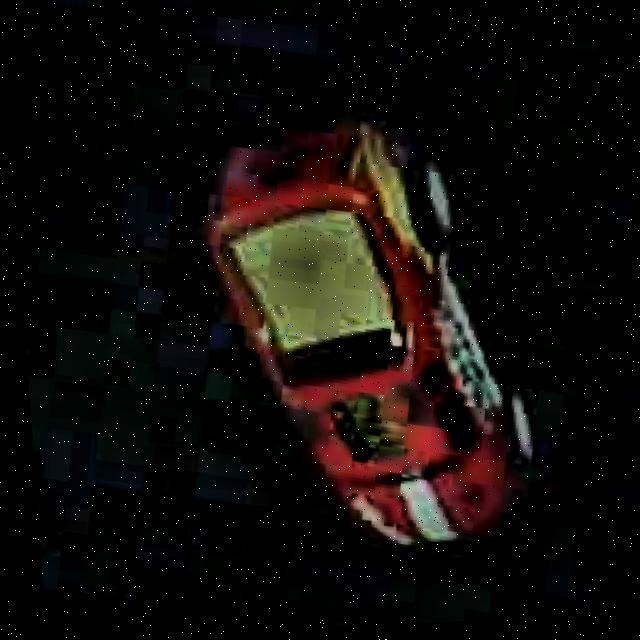car: (133, 83, 602, 589)
